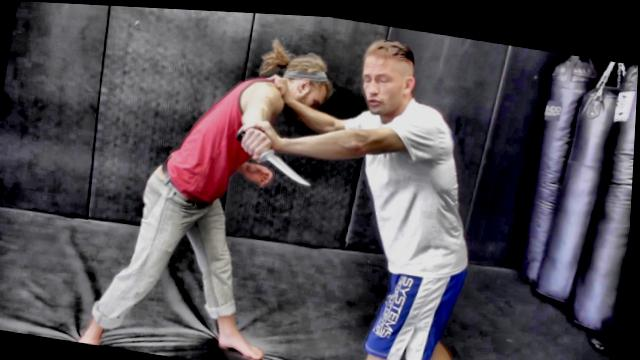knife: (225, 123, 324, 189)
